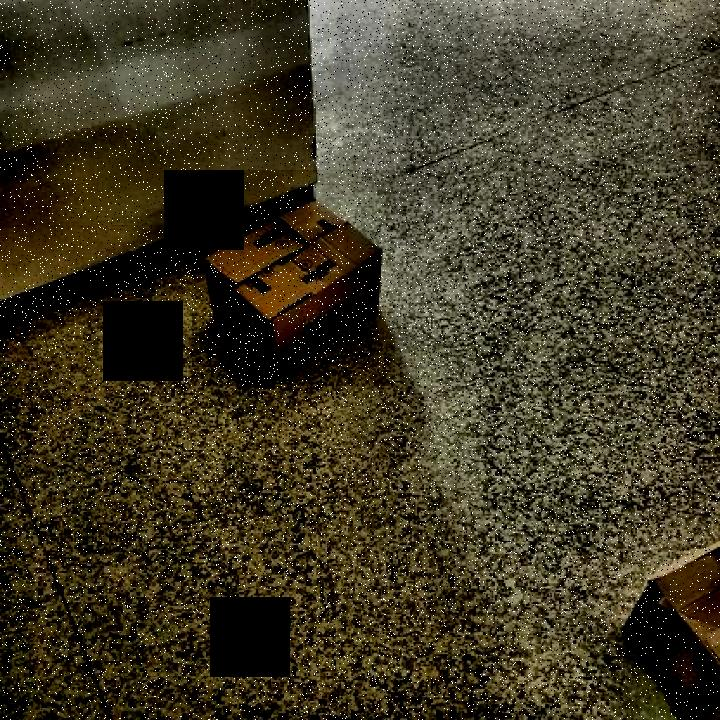box: (192, 170, 395, 386)
